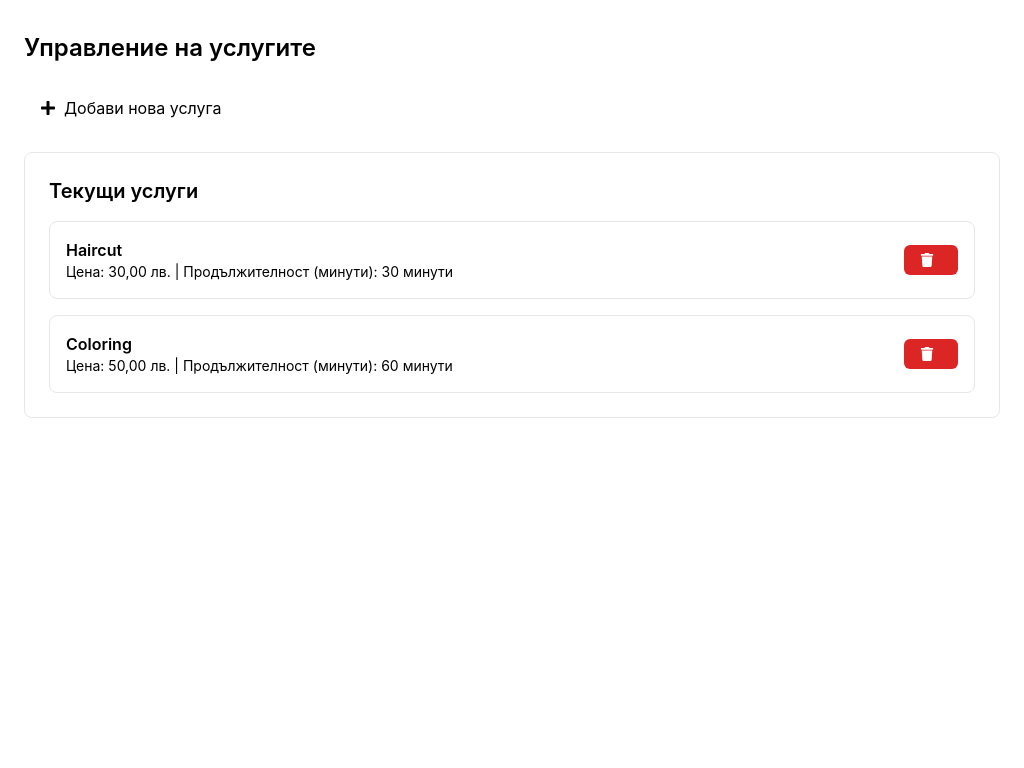
Test: ServiceManagement › opens the add service form when "Add New Service" is clicked
What coordinates should you click on to do the following:
click the button with test id "show-hide-form-button"
I would click on:
 (131, 108)
Its box is [24,88,238,128].
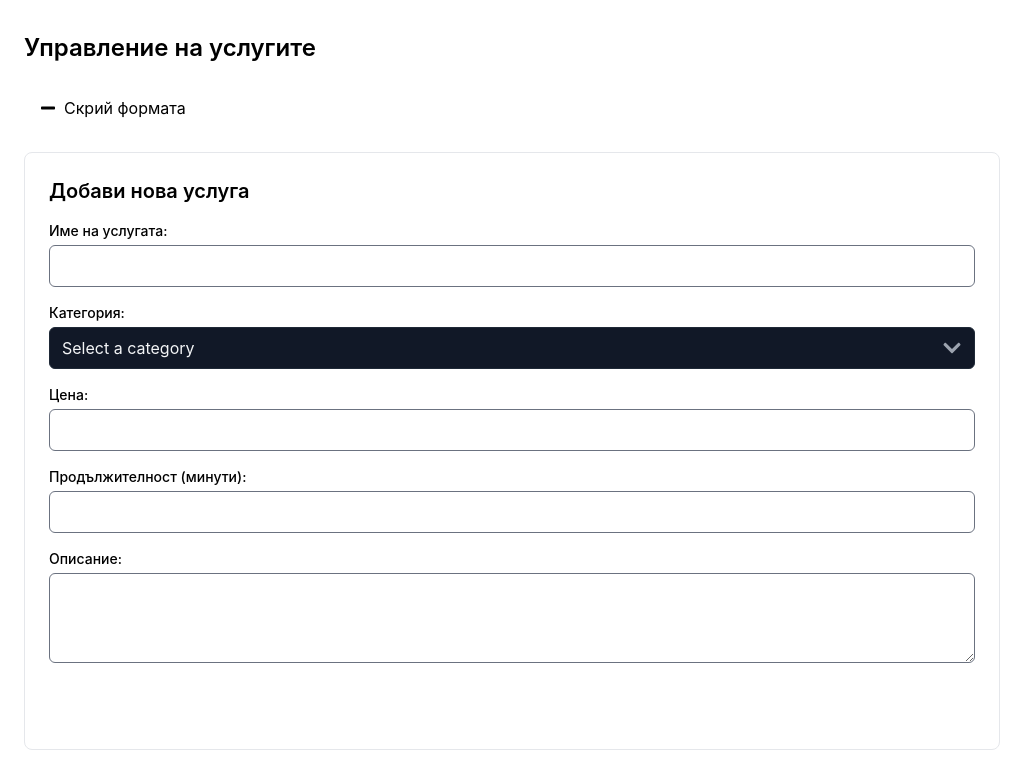
Now the heading "Добави нова услуга" is shown, box [49,179,250,203]
